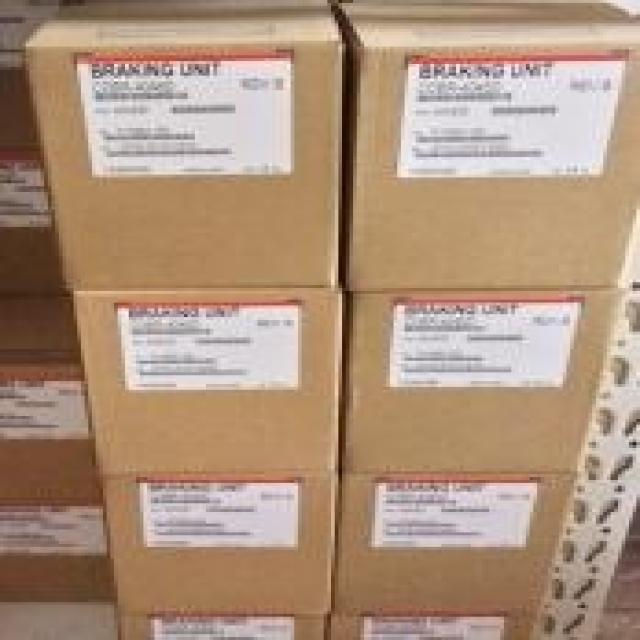box: (22, 0, 346, 291), (335, 0, 640, 291), (338, 285, 625, 474), (74, 288, 346, 474), (99, 477, 338, 617), (331, 477, 574, 614)
